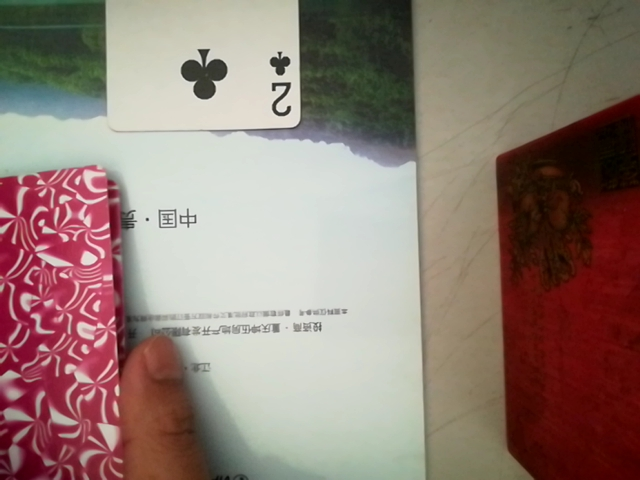mh 2: (95, 0, 300, 131)
